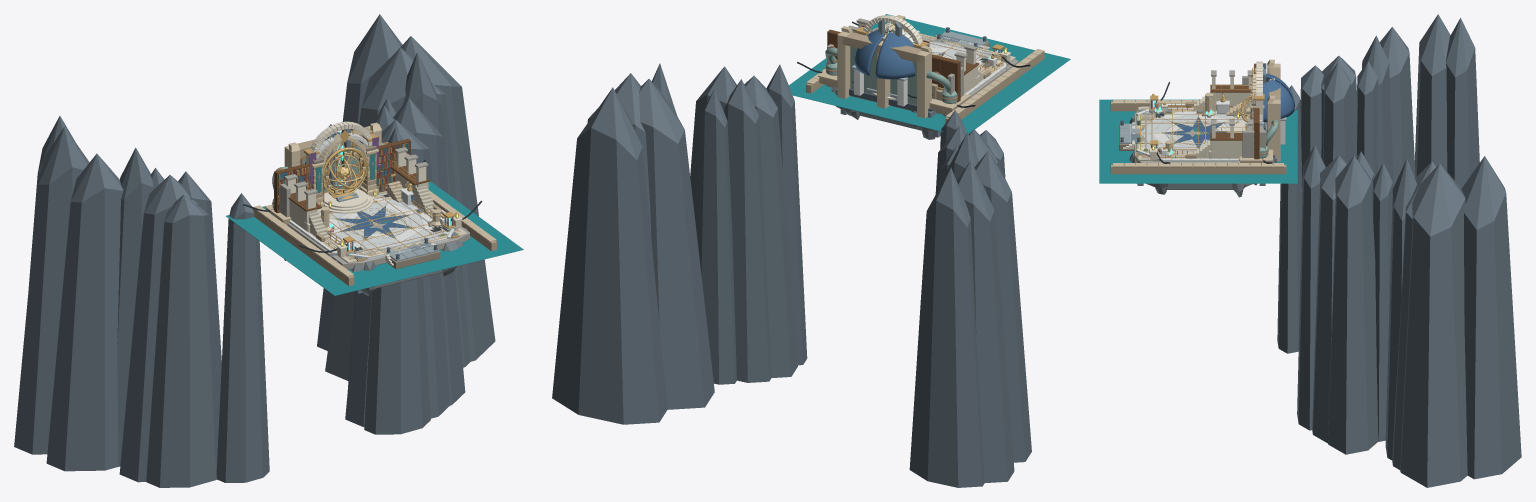
File: grande-worlds.glb
The picture shows the model from 3 angles, left to right: view 1: azimuth 30°, elevation 25°; view 2: azimuth 150°, elevation 25°; view 3: azimuth 270°, elevation 25°; orthographic projection. The views are drawn at different scales.
Visible parts, largest first — view 1: WORLD_ruins / Quiet distant mountain stone, WORLD_storm / Quiet distant mountain stone, WORLD_floodworks / Quiet distant mountain stone, WORLD_observatory / Quiet distant mountain stone, WORLD_floodworks / water, WORLD_sanctum / ivory_light, WORLD_observatory / marble, WORLD_floodworks / sand_light, WORLD_sanctum / ivory_dark, WORLD_sanctum / ivory, WORLD_observatory / marble_light, WORLD_ruins / sand_light (+12 smaller); view 2: WORLD_observatory / Quiet distant mountain stone, WORLD_ruins / Quiet distant mountain stone, WORLD_sanctum / Quiet distant mountain stone, WORLD_storm / Quiet distant mountain stone, WORLD_floodworks / water, WORLD_floodworks / sand_light, WORLD_floodworks / Quiet distant mountain stone, WORLD_observatory / blue, WORLD_floodworks / sand, WORLD_floodworks / copper_worn, WORLD_observatory / marble_light, WORLD_sanctum / ivory_light (+2 smaller); view 3: WORLD_floodworks / Quiet distant mountain stone, WORLD_observatory / Quiet distant mountain stone, WORLD_storm / Quiet distant mountain stone, WORLD_ruins / Quiet distant mountain stone, WORLD_sanctum / Quiet distant mountain stone, WORLD_floodworks / water, WORLD_floodworks / sand_light, WORLD_floodworks / sand, WORLD_sanctum / ivory, WORLD_observatory / marble_light, WORLD_observatory / marble, WORLD_observatory / blue (+6 smaller).
Boxes of the visible parts, left/top/right/bottom form: WORLD_ruins / Quiet distant mountain stone: left=46, top=47, right=470, bottom=487; WORLD_storm / Quiet distant mountain stone: left=117, top=52, right=448, bottom=482; WORLD_floodworks / Quiet distant mountain stone: left=119, top=36, right=495, bottom=482; WORLD_observatory / Quiet distant mountain stone: left=14, top=14, right=402, bottom=454; WORLD_floodworks / water: left=226, top=181, right=523, bottom=295; WORLD_sanctum / ivory_light: left=286, top=121, right=462, bottom=265; WORLD_observatory / marble: left=318, top=191, right=449, bottom=256; WORLD_floodworks / sand_light: left=254, top=122, right=496, bottom=276; WORLD_sanctum / ivory_dark: left=274, top=147, right=469, bottom=269; WORLD_sanctum / ivory: left=289, top=172, right=467, bottom=263; WORLD_observatory / marble_light: left=289, top=133, right=454, bottom=258; WORLD_ruins / sand_light: left=305, top=133, right=451, bottom=252; WORLD_observatory / Quiet distant mountain stone: left=552, top=79, right=1014, bottom=482; WORLD_ruins / Quiet distant mountain stone: left=639, top=75, right=1031, bottom=462; WORLD_sanctum / Quiet distant mountain stone: left=694, top=89, right=984, bottom=487; WORLD_storm / Quiet distant mountain stone: left=652, top=63, right=978, bottom=365; WORLD_floodworks / water: left=789, top=14, right=1070, bottom=134; WORLD_floodworks / sand_light: left=806, top=15, right=1044, bottom=118; WORLD_floodworks / Quiet distant mountain stone: left=587, top=66, right=998, bottom=232; WORLD_observatory / blue: left=854, top=30, right=945, bottom=79; WORLD_floodworks / sand: left=806, top=17, right=1044, bottom=122; WORLD_floodworks / copper_worn: left=825, top=46, right=957, bottom=110; WORLD_observatory / marble_light: left=853, top=26, right=1006, bottom=106; WORLD_sanctum / ivory_light: left=852, top=15, right=1010, bottom=99; WORLD_floodworks / Quiet distant mountain stone: left=1321, top=56, right=1467, bottom=487; WORLD_observatory / Quiet distant mountain stone: left=1323, top=14, right=1521, bottom=479; WORLD_storm / Quiet distant mountain stone: left=1277, top=35, right=1417, bottom=460; WORLD_ruins / Quiet distant mountain stone: left=1300, top=27, right=1436, bottom=469; WORLD_sanctum / Quiet distant mountain stone: left=1357, top=18, right=1479, bottom=441; WORLD_floodworks / water: left=1099, top=99, right=1297, bottom=183; WORLD_floodworks / sand_light: left=1113, top=59, right=1283, bottom=167; WORLD_floodworks / sand: left=1110, top=67, right=1286, bottom=174; WORLD_sanctum / ivory: left=1138, top=92, right=1251, bottom=160; WORLD_observatory / marble_light: left=1130, top=90, right=1288, bottom=161; WORLD_observatory / marble: left=1138, top=105, right=1243, bottom=160; WORLD_observatory / blue: left=1162, top=73, right=1294, bottom=148.
Bounding box in the file's own units: 64.5 × 45.31 × 55.34.
